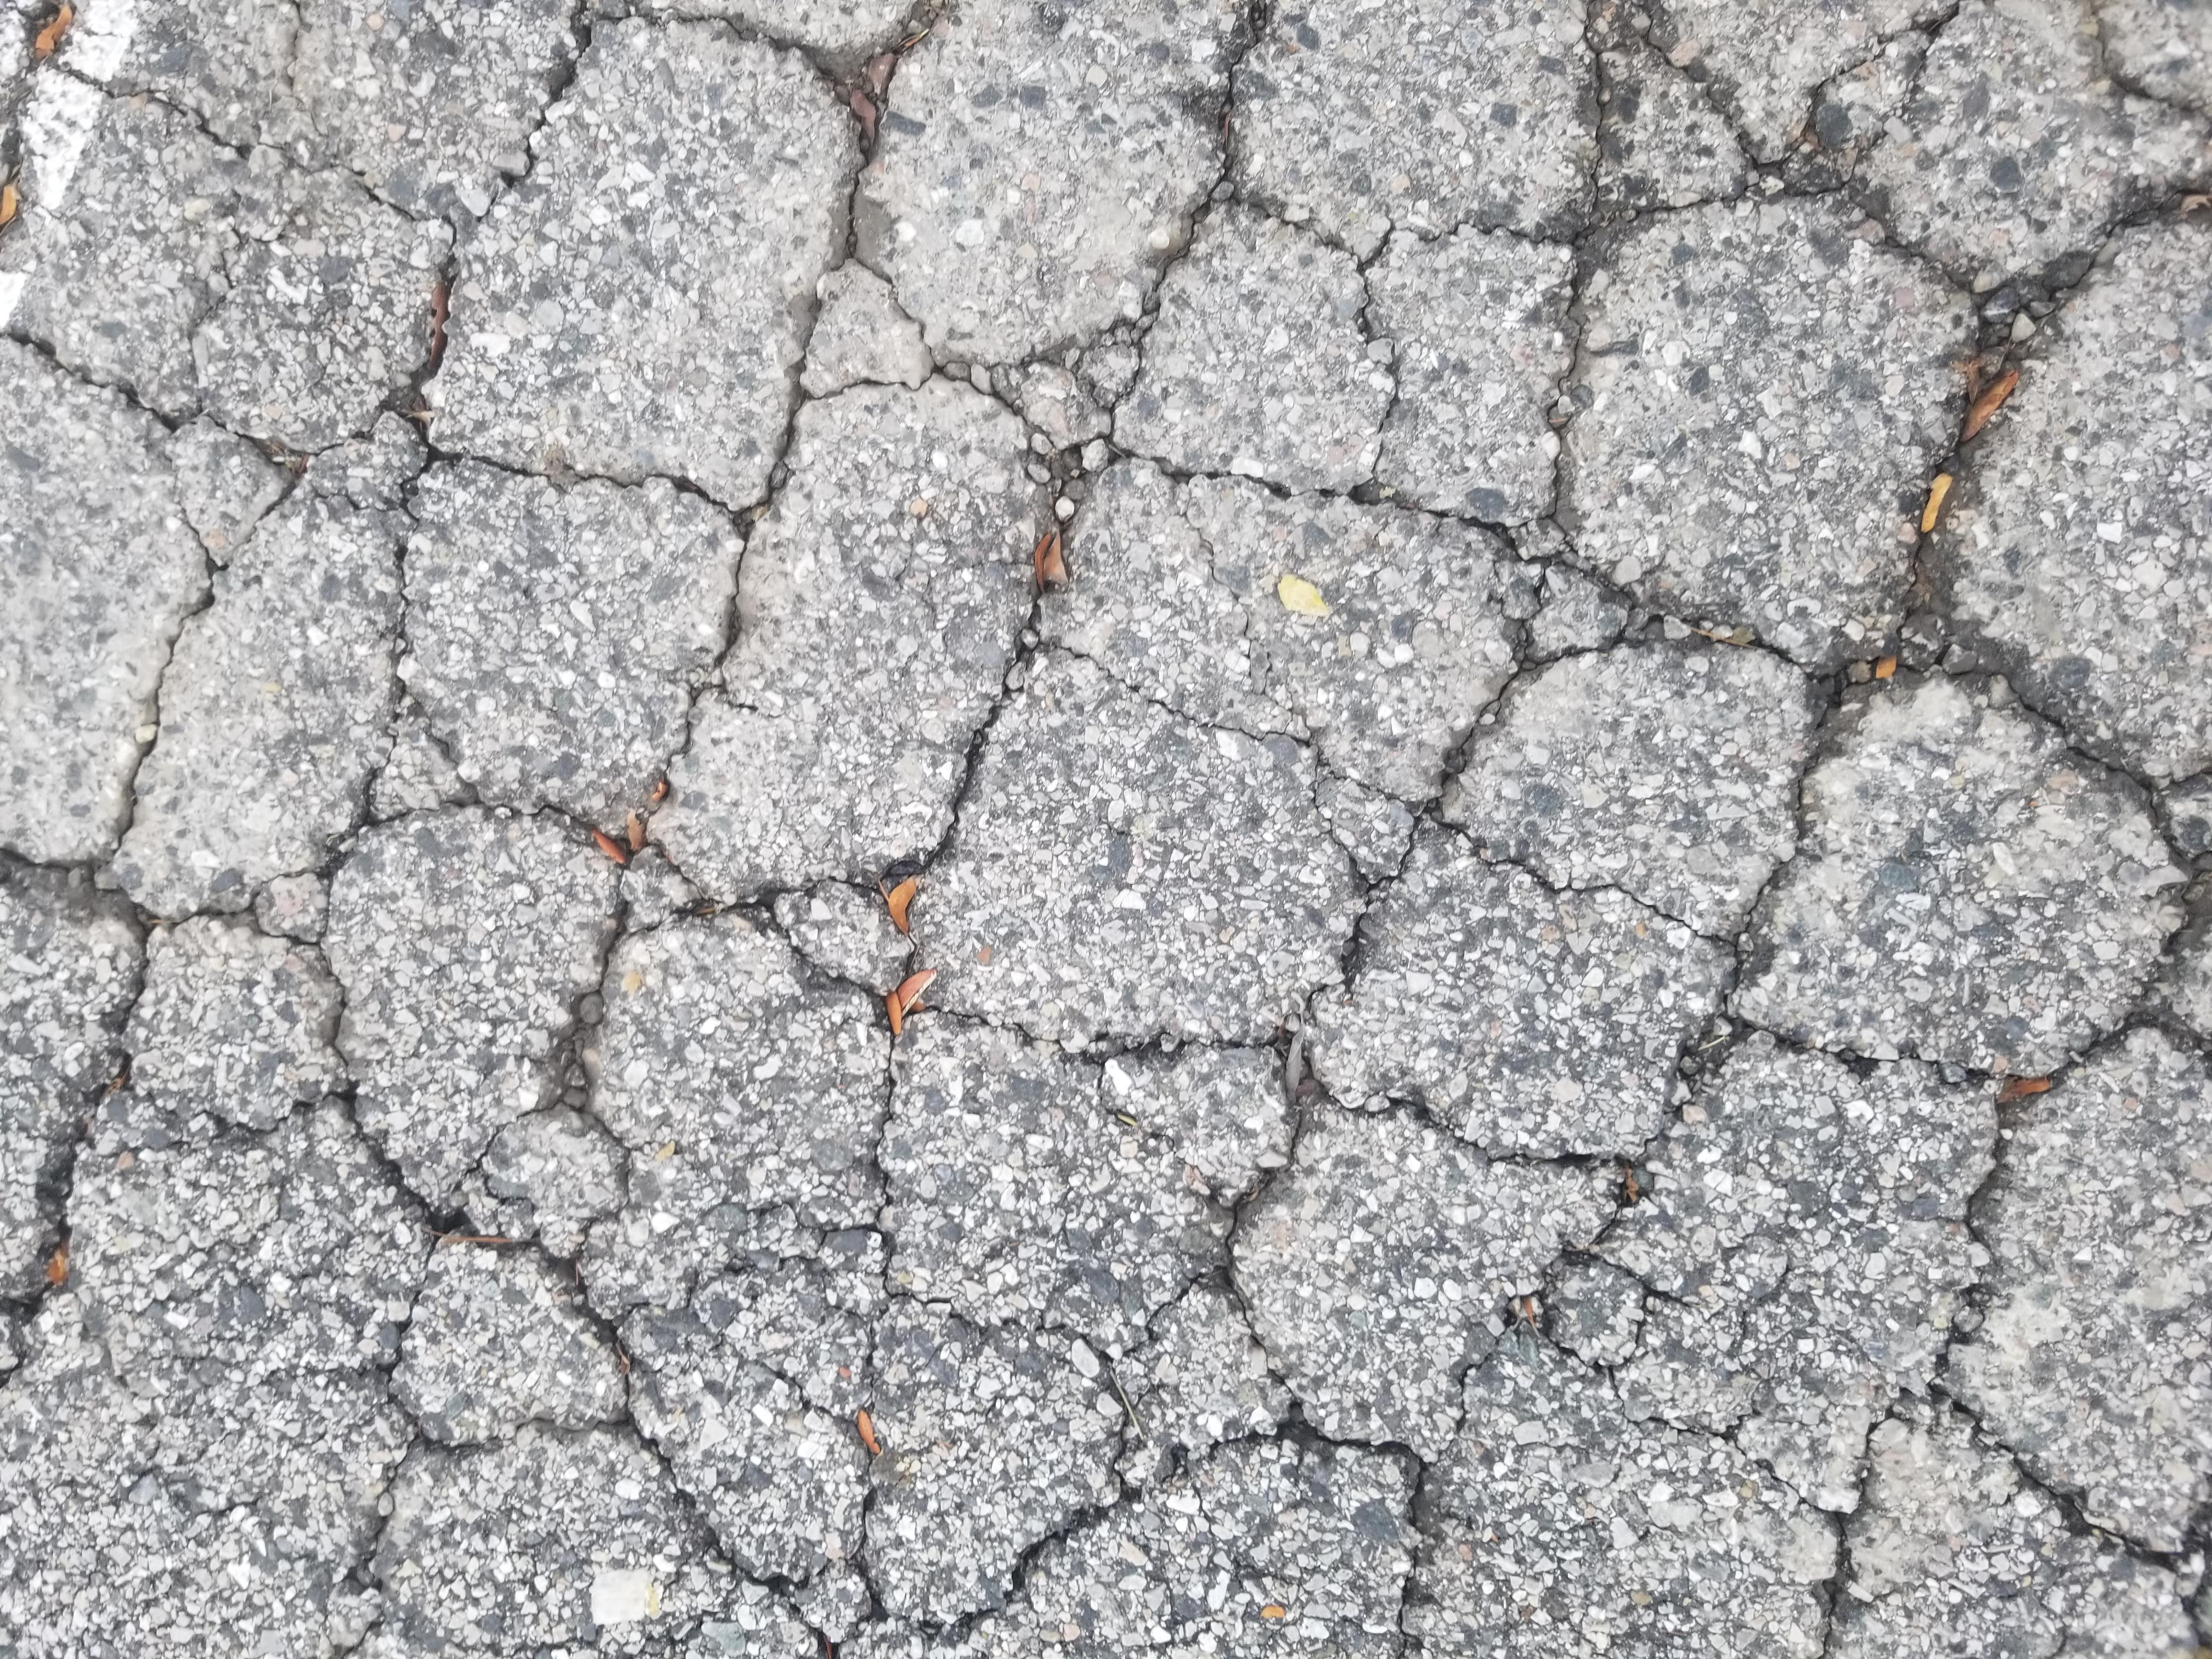alligator-crack: (16, 0, 2212, 1659)
